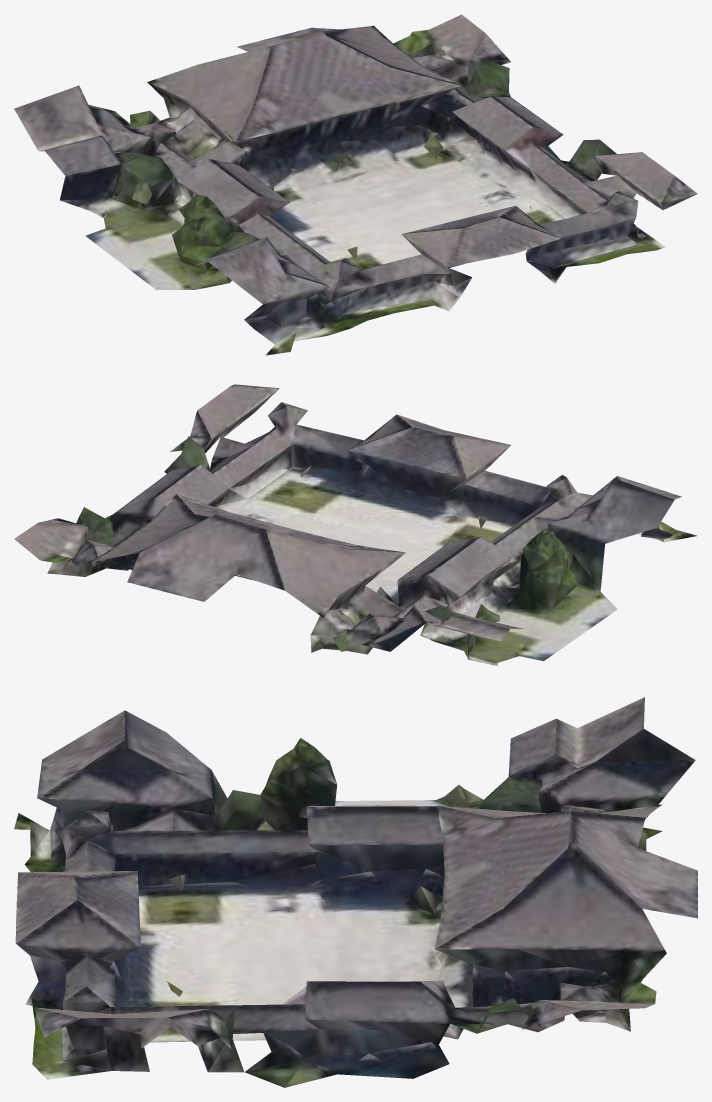
File: Tile_+003_+006_L16_0.glb
3 renders of one model, top to bottom at view 1: azimuth 30°, elevation 25°; view 2: azimuth 150°, elevation 25°; view 3: azimuth 270°, elevation 25°, orthographic. The views are drawn at different scales.
Parts seen in each view (by area): view 1: rtc; view 2: rtc; view 3: rtc.
Part boxes in pixels (left/top/right/bottom): rtc: left=14, top=14, right=697, bottom=355; rtc: left=14, top=384, right=697, bottom=665; rtc: left=14, top=697, right=697, bottom=1087.
Bounding box in the file's own units: 60.33 × 13.94 × 58.15.
1 material, 1 textured.
